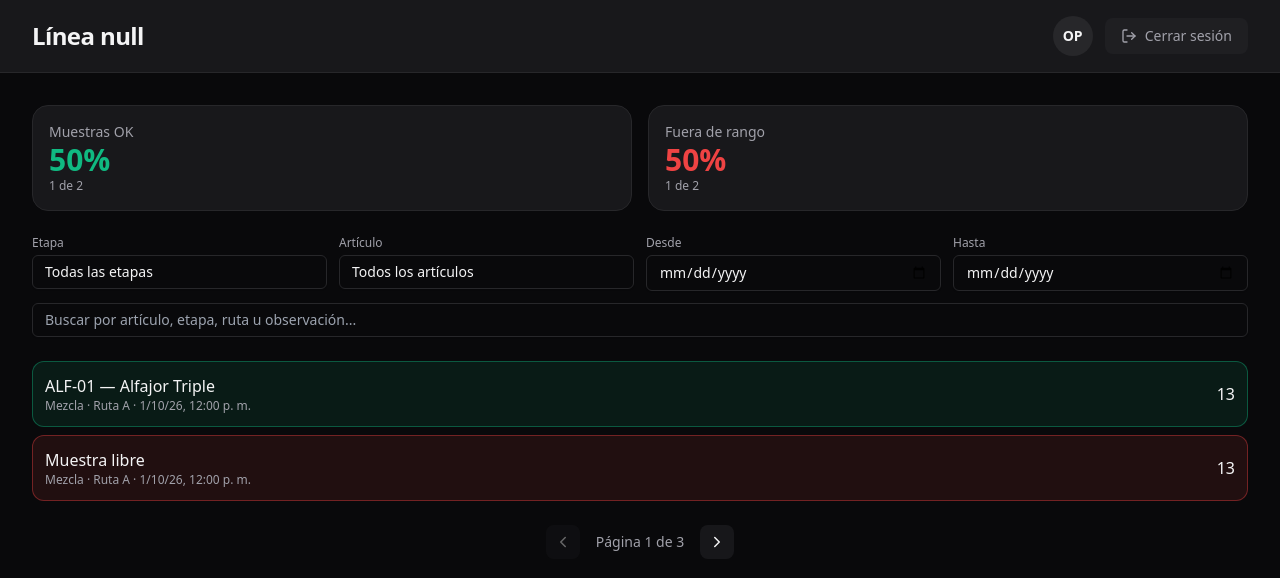
Test: HistorialPage › paginates: next/previous buttons and disabled bounds
expect the text "Página 1 de 3" is shown: met, box [596,532,684,552]
expect the button named "Página anterior" is disabled: met, box [546,525,580,559]
Click the button named "Página siguiente": (717, 542) [700,525,734,559]
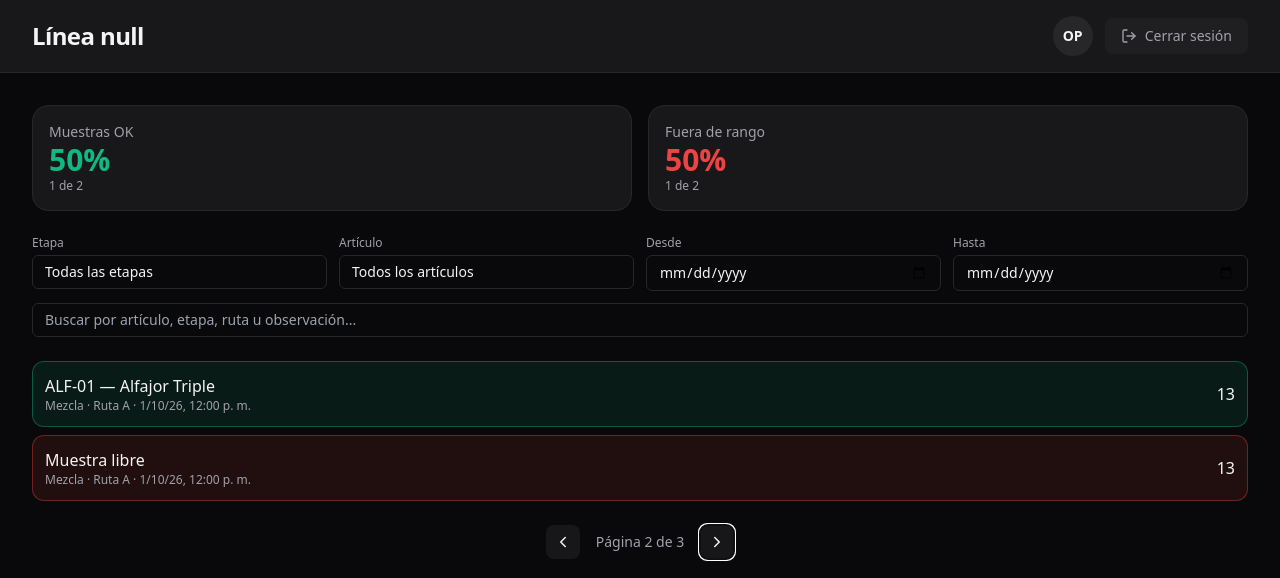
Click the button named "Página siguiente": (717, 542) [700,525,734,559]
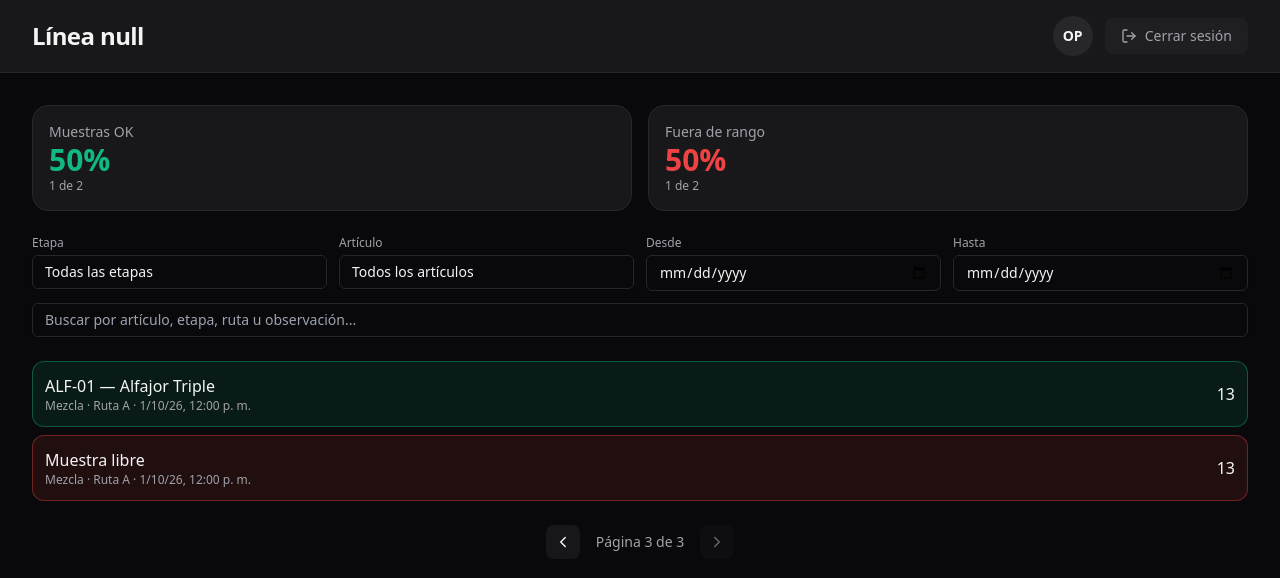
expect the text "Página 3 de 3" is shown: met, box [596,532,684,552]
